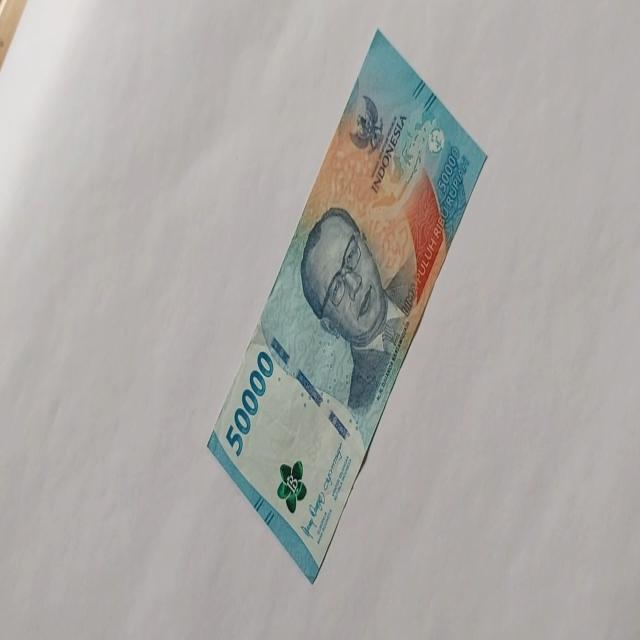lima puluh ribu rupiah: (206, 28, 488, 584), (298, 204, 414, 418), (224, 350, 274, 458)
